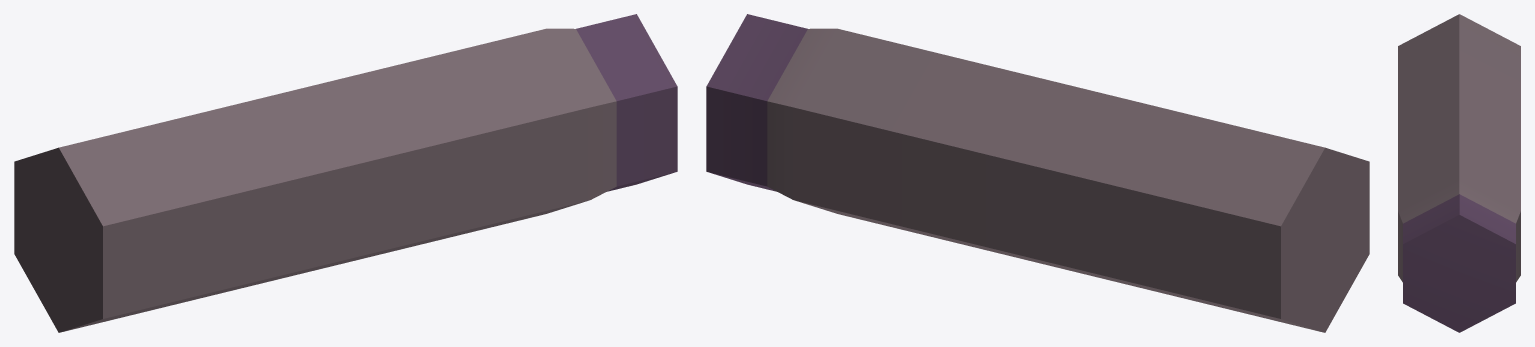
The model's file is Ak Bullet.fbx.
The picture shows the model from 3 angles, left to right: view 1: azimuth 30°, elevation 25°; view 2: azimuth 150°, elevation 25°; view 3: azimuth 270°, elevation 25°; orthographic projection. The views are drawn at different scales.
Parts seen in each view (by area): view 1: pCylinder1; view 2: pCylinder1; view 3: pCylinder1.
Boxes of the visible parts, x1,y1,x2,y2 form: pCylinder1: [14, 14, 677, 332]; pCylinder1: [706, 14, 1369, 332]; pCylinder1: [1398, 14, 1520, 332].
Bounding box in the file's own units: 19.11 × 5.83 × 5.05.
